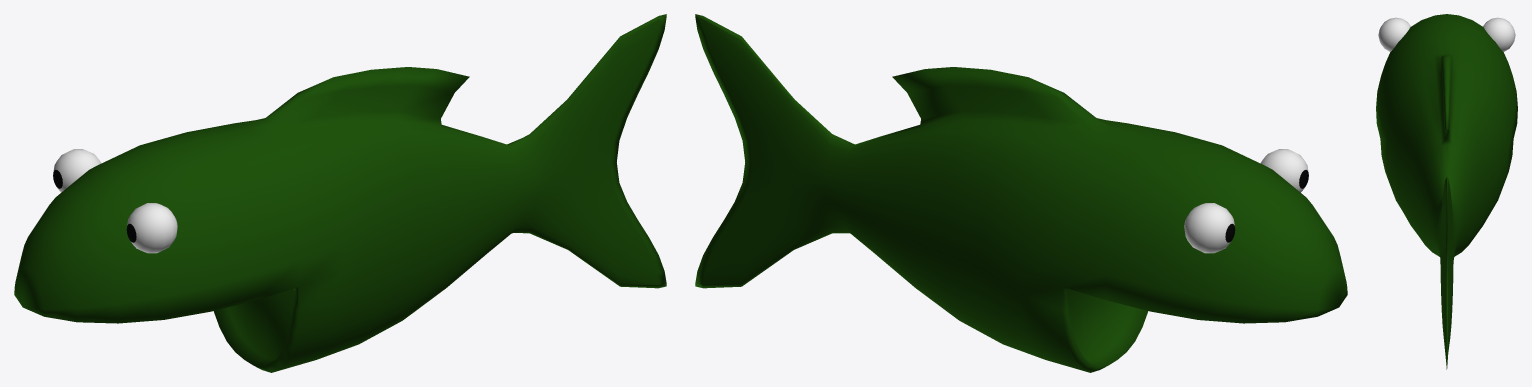
File: fishBody.glb
The picture shows the model from 3 angles, left to right: view 1: azimuth 30°, elevation 25°; view 2: azimuth 150°, elevation 25°; view 3: azimuth 270°, elevation 25°; orthographic projection. The views are drawn at different scales.
Parts seen in each view (by area): view 1: Fish; view 2: Fish; view 3: Fish.
Boxes of the visible parts, x1=… form: Fish: x1=14, y1=14, x2=666, y2=372; Fish: x1=695, y1=14, x2=1347, y2=372; Fish: x1=1376, y1=14, x2=1517, y2=369.
Bounding box in the file's own units: 4.66 × 2.01 × 1.29.
